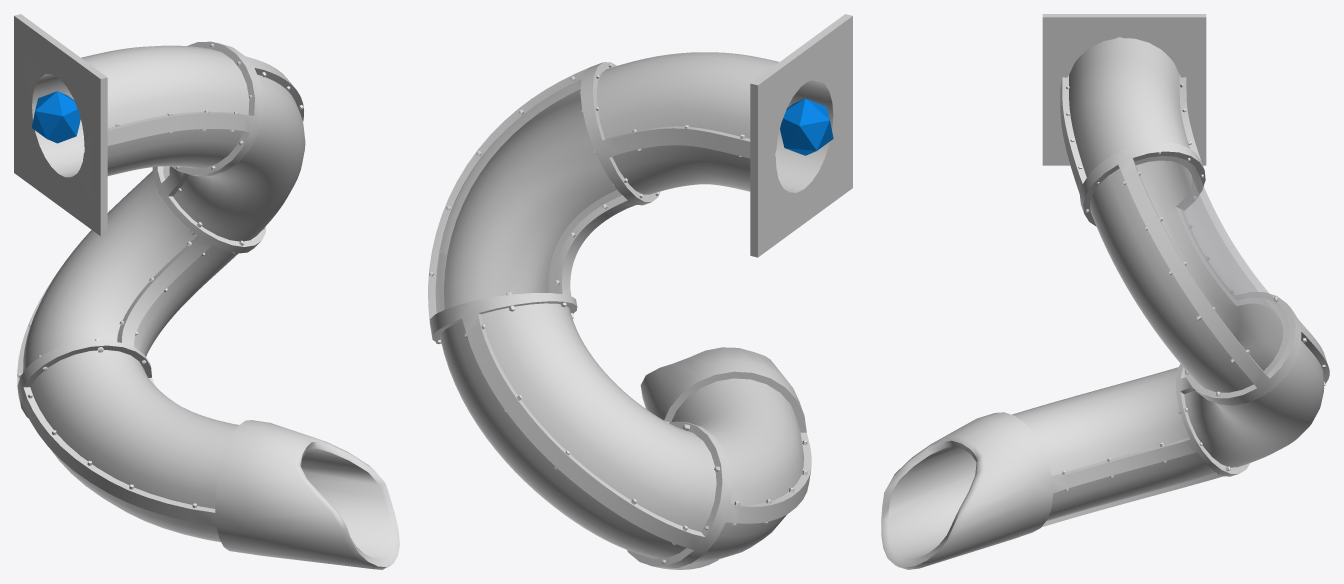
File: Turbo twister slider 7' R clear.glb
3 views of the same model, side by side, from view 1: azimuth 30°, elevation 25°; view 2: azimuth 150°, elevation 25°; view 3: azimuth 270°, elevation 25° (orthographic). The views are drawn at different scales.
Parts seen in each view (by area): view 1: NurbsPath.004, Joint.056, Side winder slide.012; view 2: NurbsPath.004, NurbsPath.005, Joint.056, Side winder slide.012; view 3: NurbsPath.004, NurbsPath.005, Side winder slide.012.
Boxes of the visible parts, x1,y1,x2,y2 form: NurbsPath.004: (14, 14, 399, 569); Joint.056: (31, 91, 80, 143); Side winder slide.012: (17, 43, 303, 522); NurbsPath.004: (428, 14, 852, 569); NurbsPath.005: (435, 80, 621, 312); Joint.056: (780, 98, 833, 155); Side winder slide.012: (429, 63, 807, 563); NurbsPath.004: (881, 14, 1329, 569); NurbsPath.005: (1135, 156, 1289, 374); Side winder slide.012: (1062, 83, 1325, 490).
Bounding box in the file's own units: 1.87 × 2.82 × 2.51.
4 materials, 1 textured.
